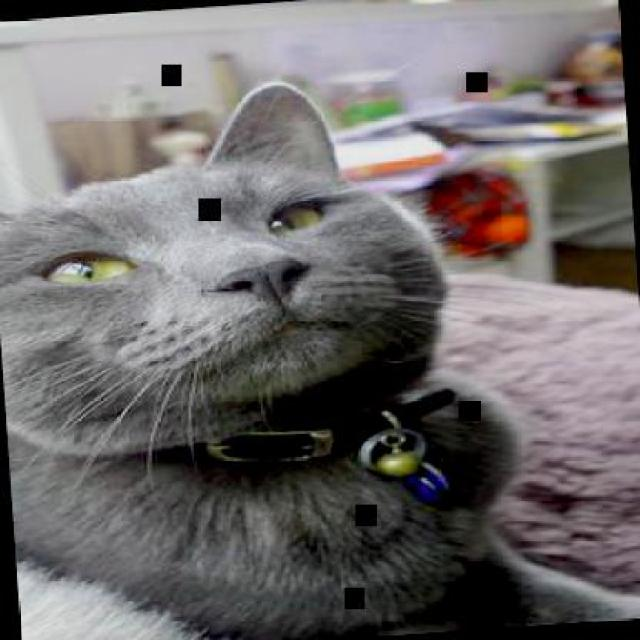cat: (0, 58, 638, 638)
